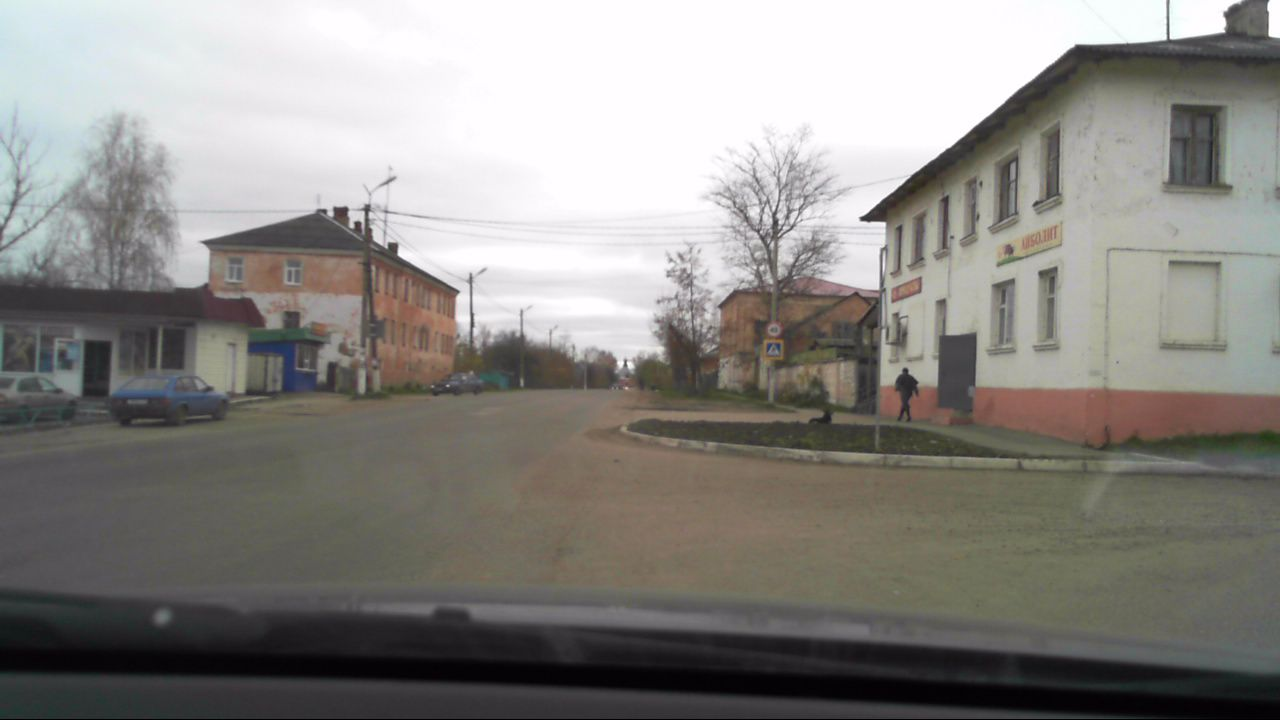speed_warning_40: (764, 319, 784, 339)
